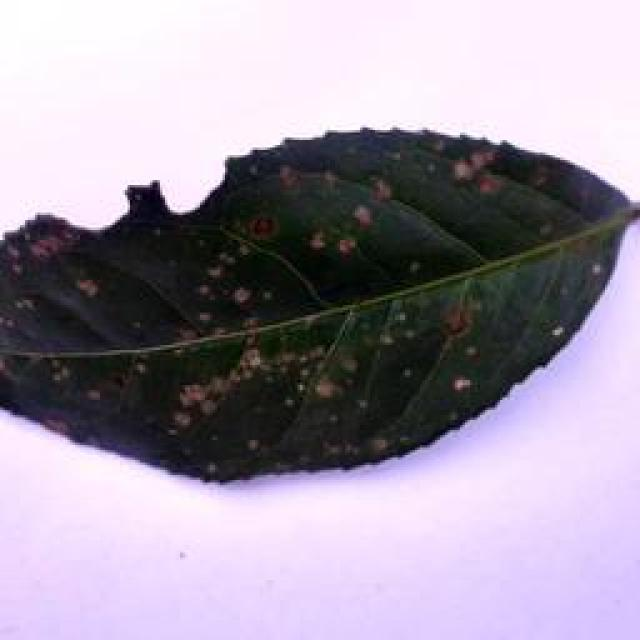Algal Leaf Spot: (1, 120, 630, 489)
